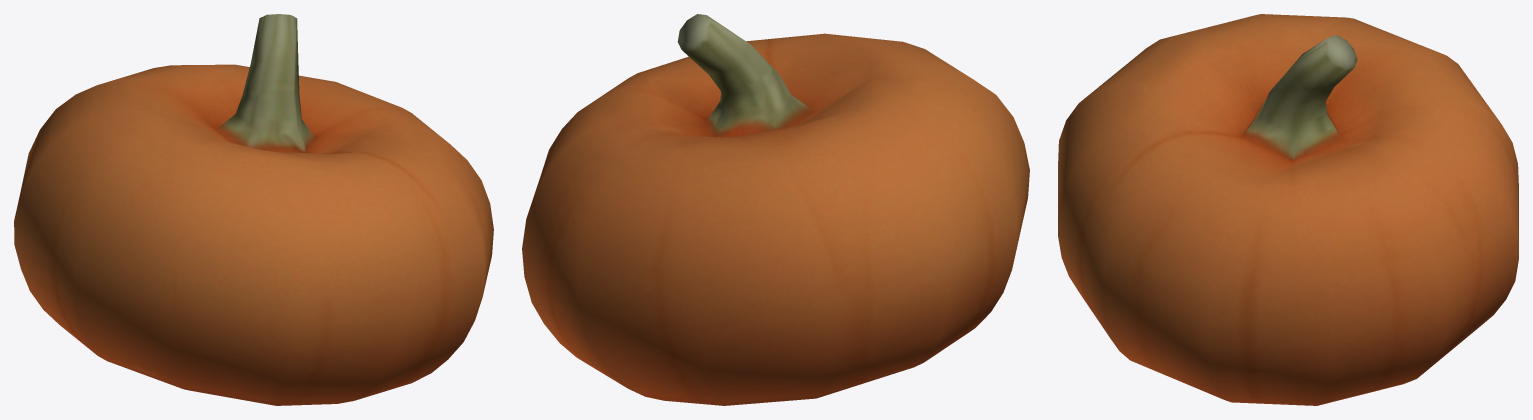
File: pumpkin_M.FBX
The picture shows the model from 3 angles, left to right: view 1: azimuth 30°, elevation 25°; view 2: azimuth 150°, elevation 25°; view 3: azimuth 270°, elevation 25°; orthographic projection. The views are drawn at different scales.
Parts seen in each view (by area): view 1: tripo_node_6ed3d01b; view 2: tripo_node_6ed3d01b; view 3: tripo_node_6ed3d01b.
Part boxes in pixels (x1,y1,x2,y2): tripo_node_6ed3d01b: [14, 14, 493, 405]; tripo_node_6ed3d01b: [522, 14, 1029, 405]; tripo_node_6ed3d01b: [1058, 14, 1518, 405].
Size of the model in its own units: 0.116 by 0.0915 by 0.116.
